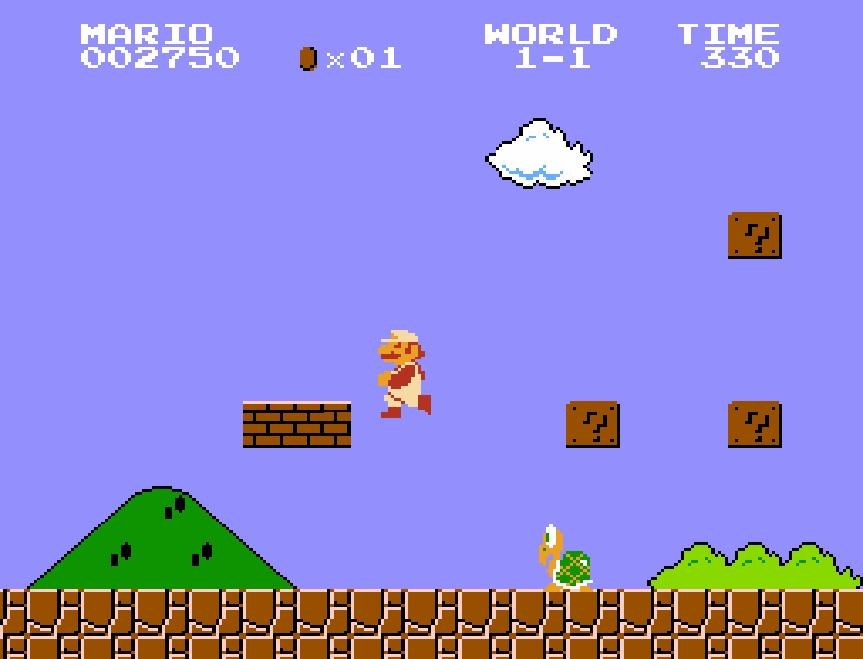fire_mario: (376, 322, 434, 420)
